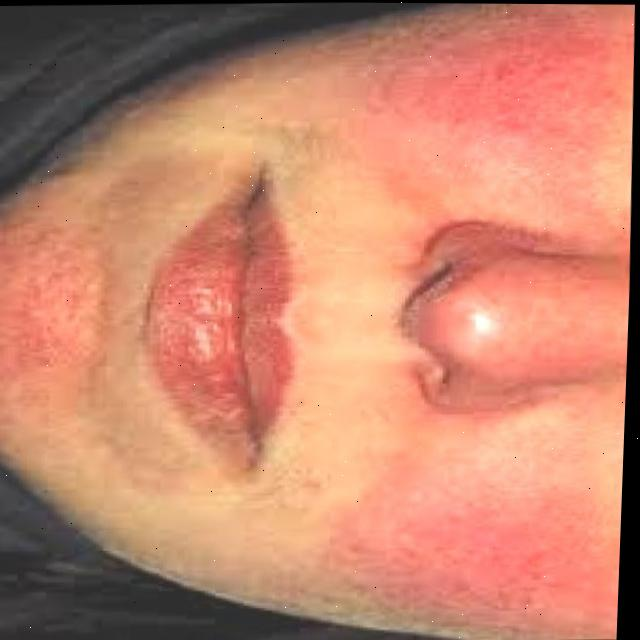Rosacea: (359, 463, 586, 619), (452, 8, 585, 131), (0, 221, 81, 393)
